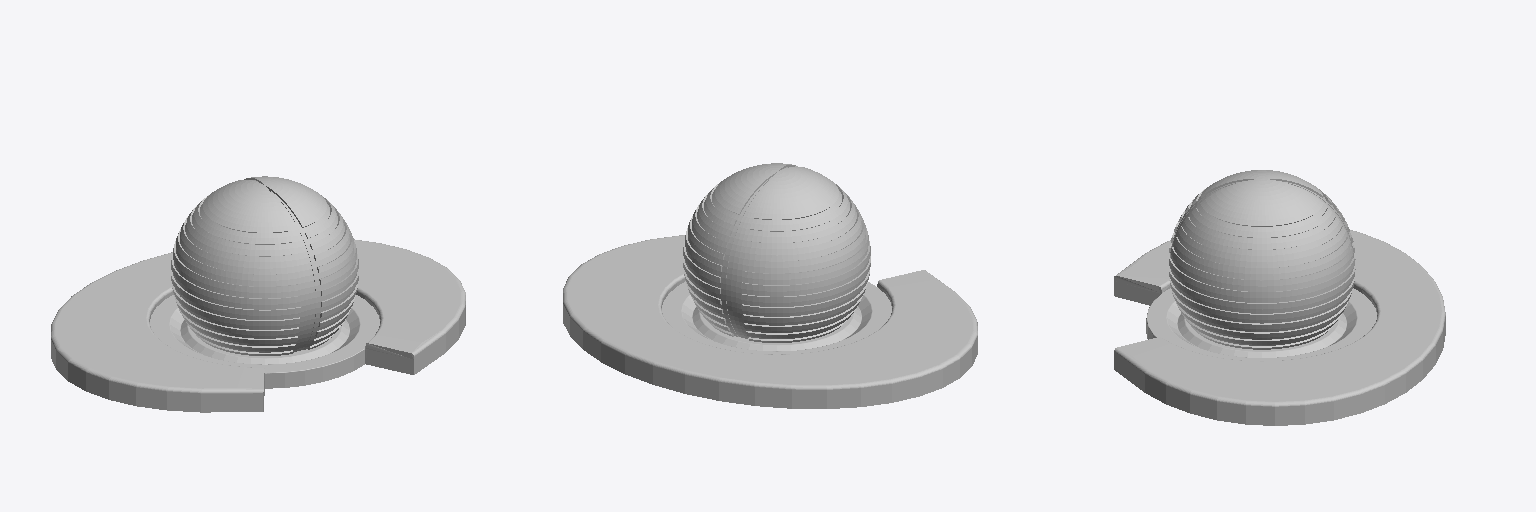
The model's file is 杭州A.obj.
The picture shows the model from 3 angles: view 1: azimuth 30°, elevation 25°; view 2: azimuth 150°, elevation 25°; view 3: azimuth 270°, elevation 25°; orthographic projection.
Parts seen in each view (by area): view 1: 圆柱, 球体; view 2: 圆柱, 球体; view 3: 圆柱, 球体.
Boxes of the visible parts, x1=… form: 圆柱: x1=51, y1=239, x2=465, y2=412; 球体: x1=171, y1=176, x2=358, y2=355; 圆柱: x1=563, y1=235, x2=977, y2=408; 球体: x1=683, y1=163, x2=870, y2=342; 圆柱: x1=1114, y1=230, x2=1445, y2=425; 球体: x1=1169, y1=170, x2=1355, y2=349.
Size of the model in its own units: 632 by 246 by 478.